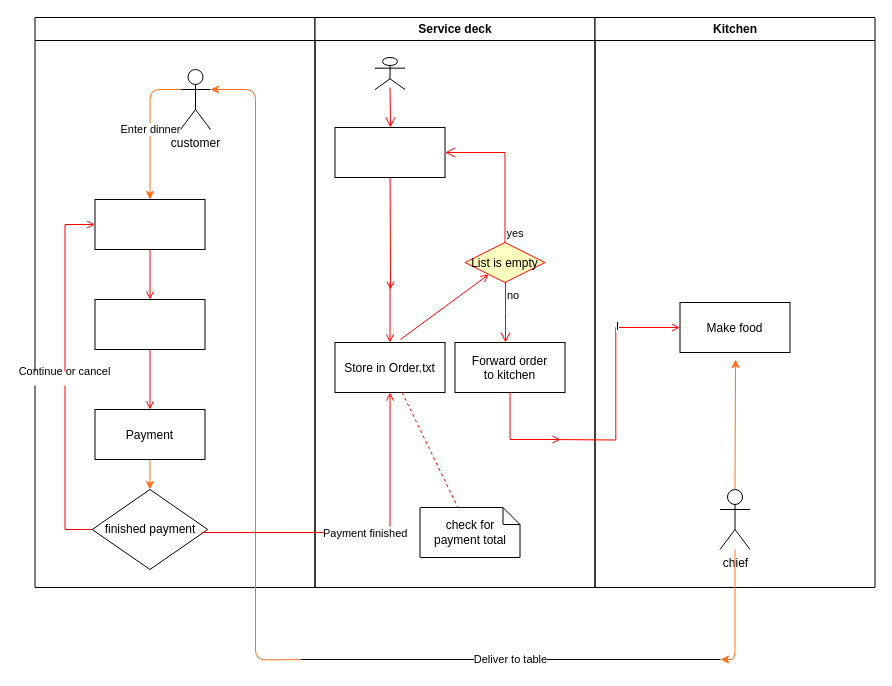
This 892x686 diagram has some shape labels left out. The box of each missing label's shape, as (x1, y1, x2, y2) in pixels:
Check for quantity in cart: (94, 298, 205, 350)
clerk: (374, 56, 405, 90)
Select order from web-menu: (94, 198, 205, 250)
Table for service: (34, 16, 315, 588)
Wait for order: (334, 126, 445, 178)
